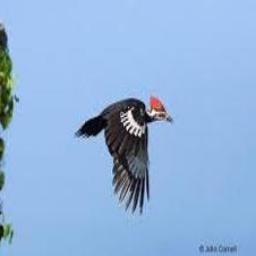Woodpecker: (74, 94, 173, 215)
